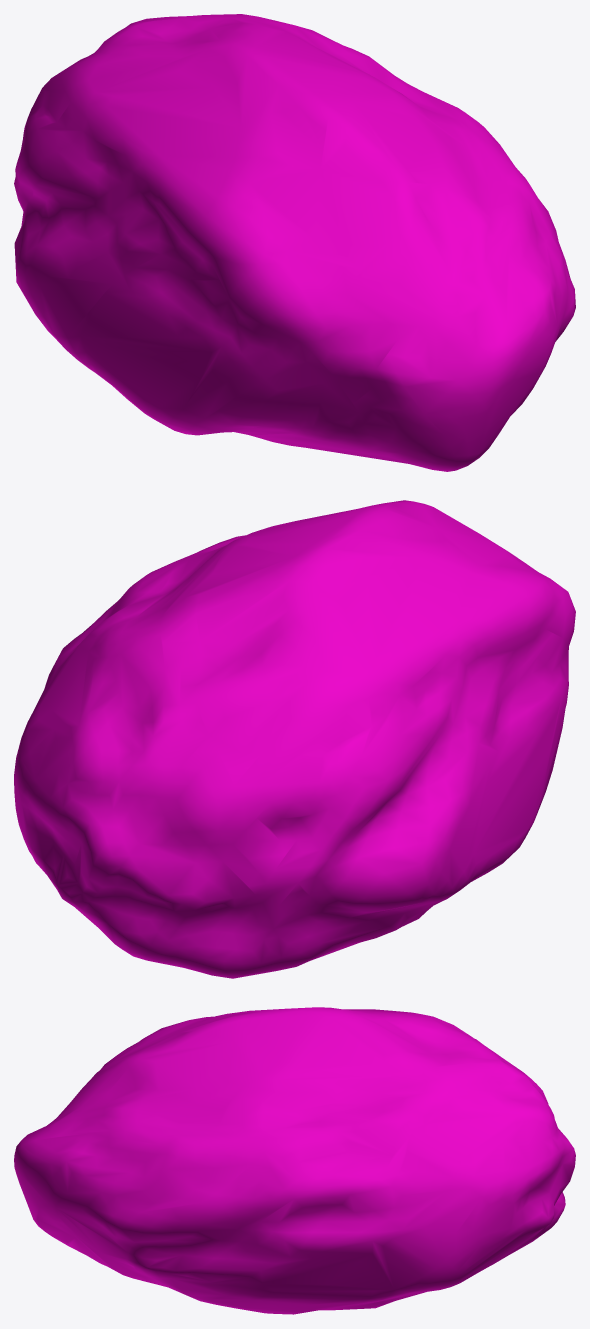
The model's file is PhiloStone_02.fbx.
3 views of the same model, one above another, from view 1: azimuth 30°, elevation 25°; view 2: azimuth 150°, elevation 25°; view 3: azimuth 270°, elevation 25° (orthographic). The views are drawn at different scales.
Visible parts, largest first — view 1: PhiloStone.002; view 2: PhiloStone.002; view 3: PhiloStone.002.
Part boxes in pixels (left/top/right/bottom): PhiloStone.002: left=14, top=14, right=575, bottom=471; PhiloStone.002: left=14, top=500, right=575, bottom=978; PhiloStone.002: left=14, top=1007, right=575, bottom=1314.
Bounding box in the file's own units: 12.96 × 11.21 × 21.38.
